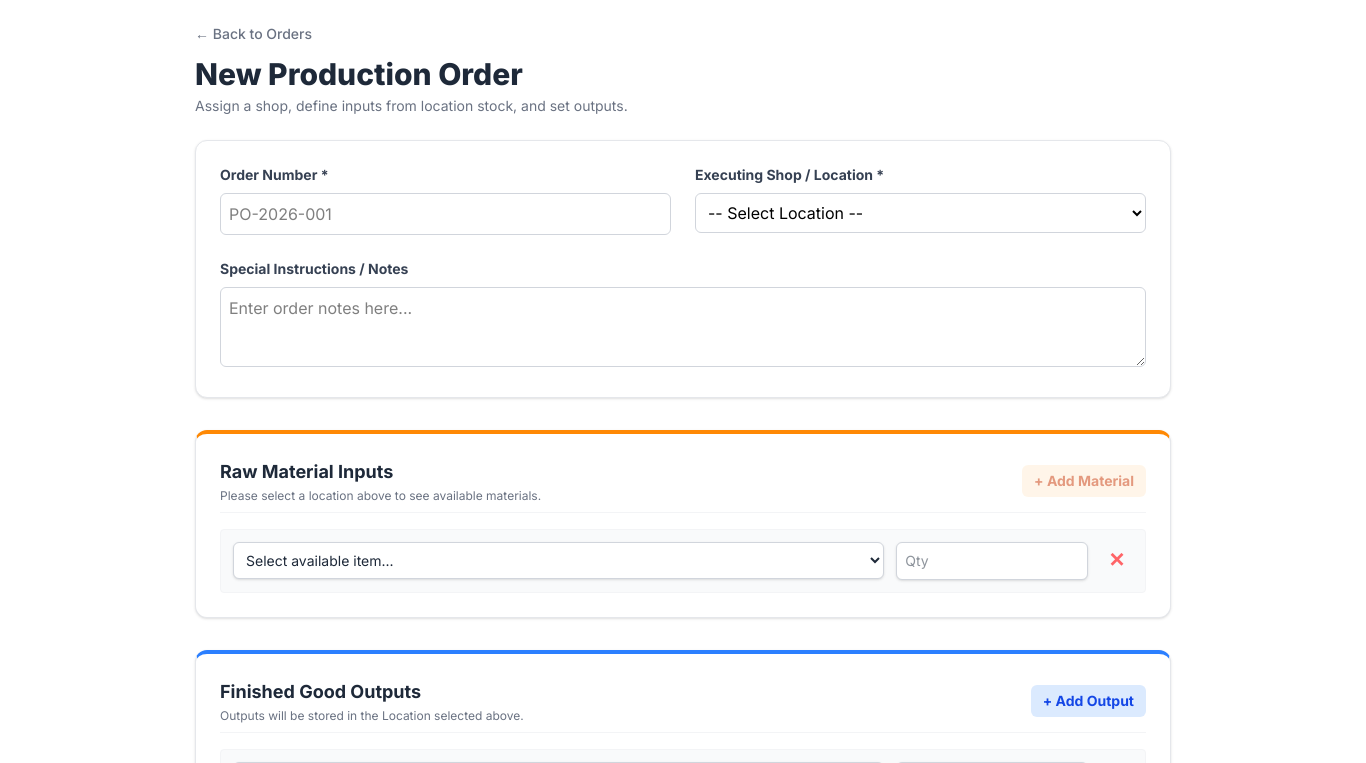
NewOrder — Zod validation › shows validation error for invalid order number format
The width and height of the screenshot is (1366, 763).
In the field with placeholder "PO-2026-001": (446, 214) [220, 193, 671, 235], type "invalid order!!"
(page scrolled)
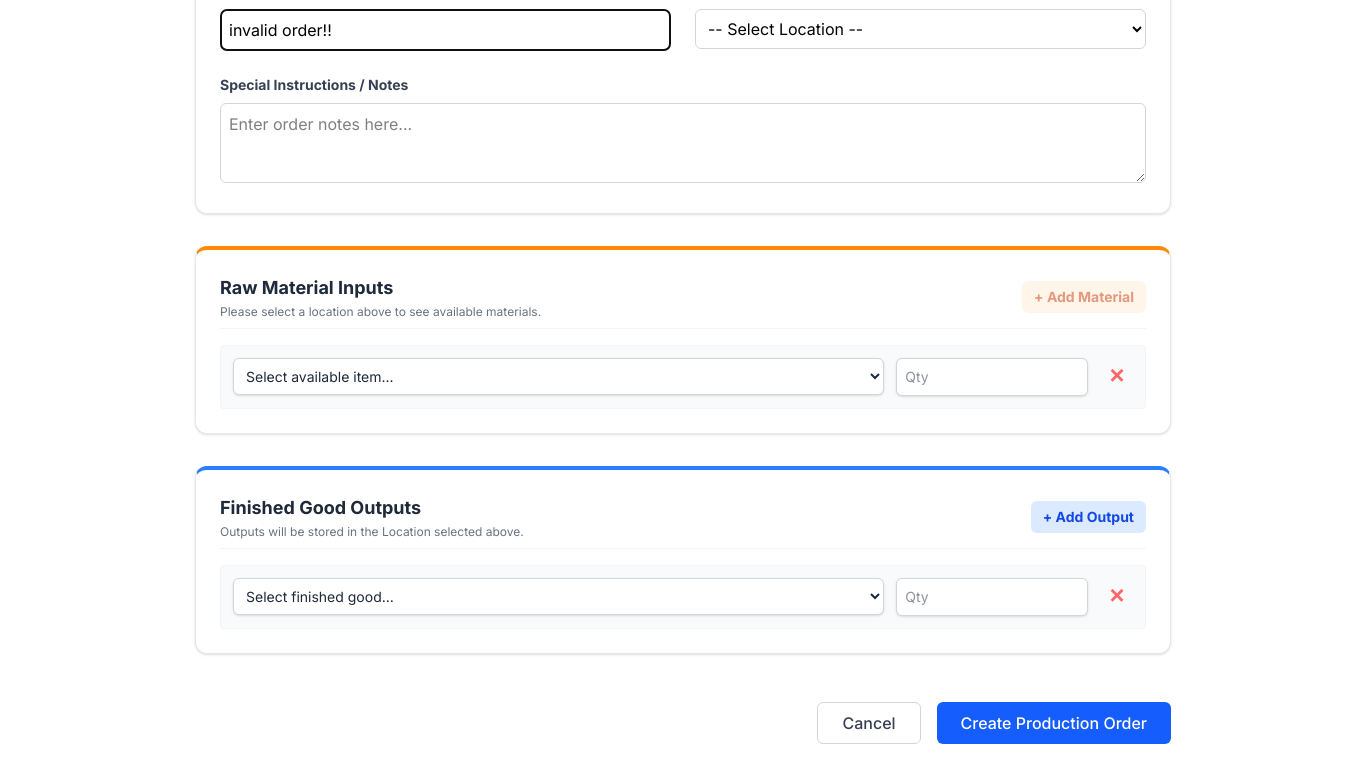
Click the button "Create Production Order": (1054, 723) [937, 702, 1171, 744]
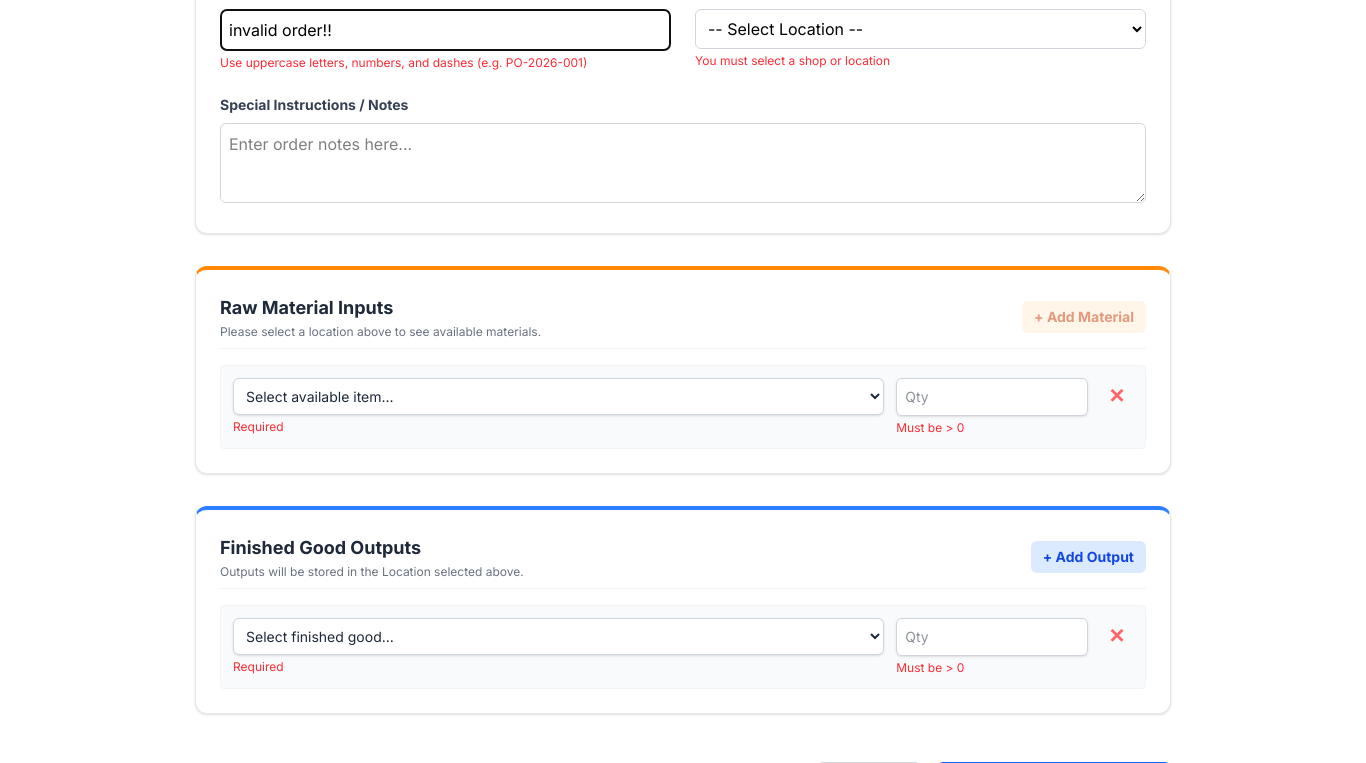
expect the text "uppercase letters, numbers, and dashes" is shown: met, box [220, 55, 587, 70]
